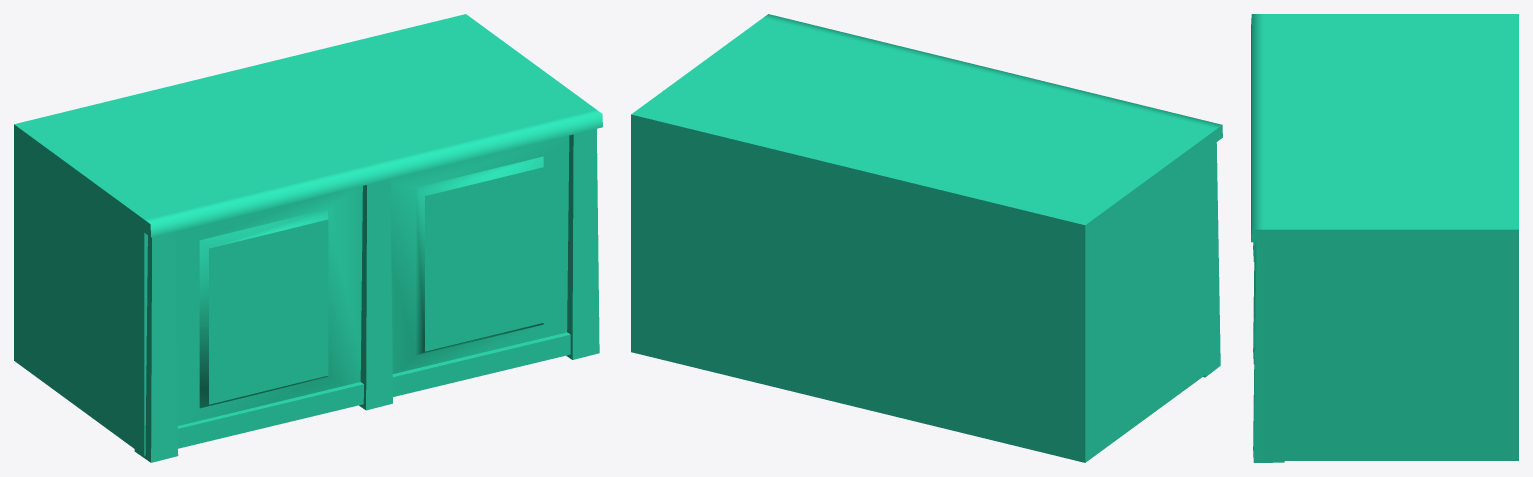
Rendered from TV STANDING.glb.
3 views of the same model, side by side, from view 1: azimuth 30°, elevation 25°; view 2: azimuth 150°, elevation 25°; view 3: azimuth 270°, elevation 25° (orthographic). The views are drawn at different scales.
Visible parts, largest first — view 1: Prop_BookCase_Base_A; view 2: Prop_BookCase_Base_A; view 3: Prop_BookCase_Base_A.
Boxes of the visible parts, left/top/right/bottom form: Prop_BookCase_Base_A: left=14, top=14, right=602, bottom=462; Prop_BookCase_Base_A: left=631, top=14, right=1222, bottom=462; Prop_BookCase_Base_A: left=1251, top=14, right=1518, bottom=462.
Size of the model in its own units: 2 by 1.01 by 1.05.
